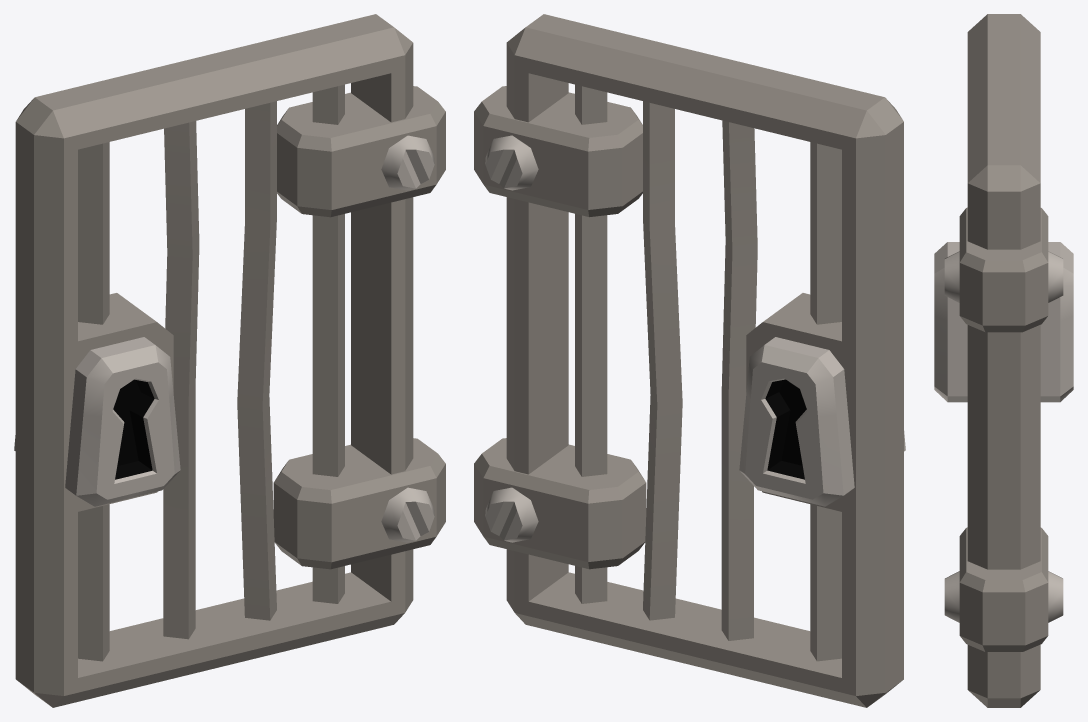
File: m_dec_dung_doorGridKey.fbx
3 views of the same model, side by side, from view 1: azimuth 30°, elevation 25°; view 2: azimuth 150°, elevation 25°; view 3: azimuth 270°, elevation 25° (orthographic). The views are drawn at different scales.
Visible parts, largest first — view 1: m_dec_dung_doorGridKey; view 2: m_dec_dung_doorGridKey; view 3: m_dec_dung_doorGridKey.
Boxes of the visible parts, x1,y1,x2,y2 form: m_dec_dung_doorGridKey: (14, 14, 445, 707); m_dec_dung_doorGridKey: (474, 14, 905, 707); m_dec_dung_doorGridKey: (934, 14, 1073, 707).
Bounding box in the file's own units: 2.16 × 3.01 × 0.6996.
